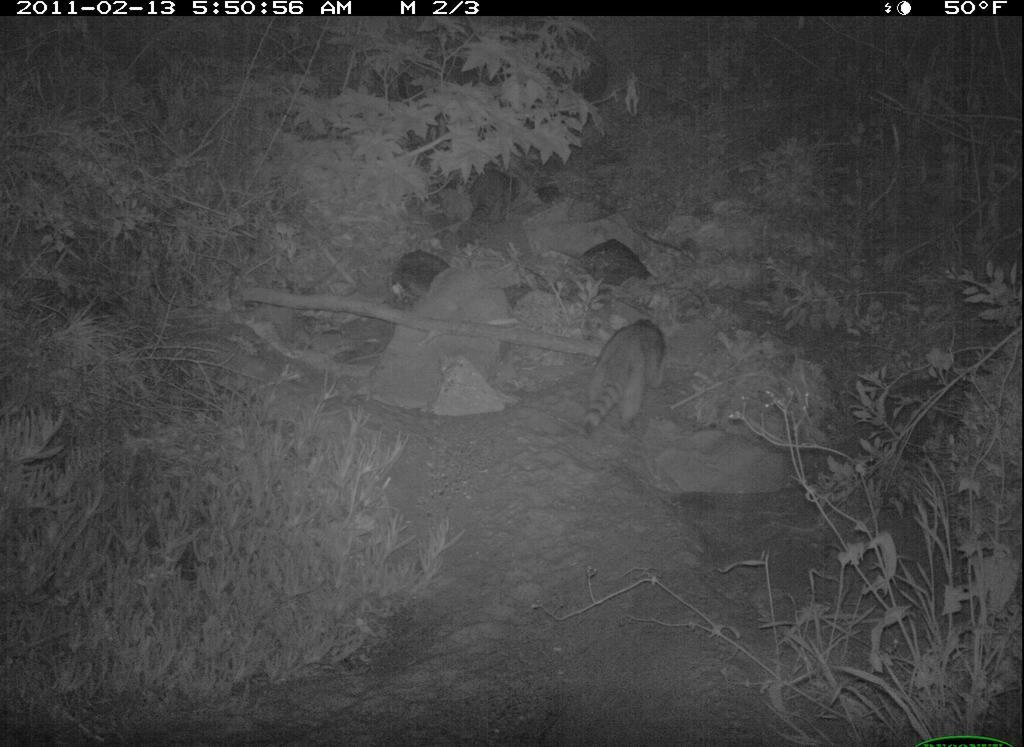raccoon: (566, 312, 681, 447)
